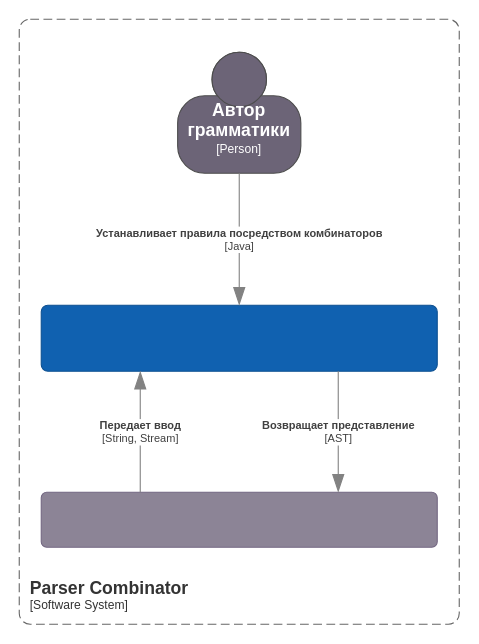
Image size: 479x644. Some labels were removed from this diagram. Each missing label, with the box of its shape:
Калькулятор [Software System]: (40, 491, 437, 547)
Парсер-комбинатор [Library]: (40, 304, 437, 371)
